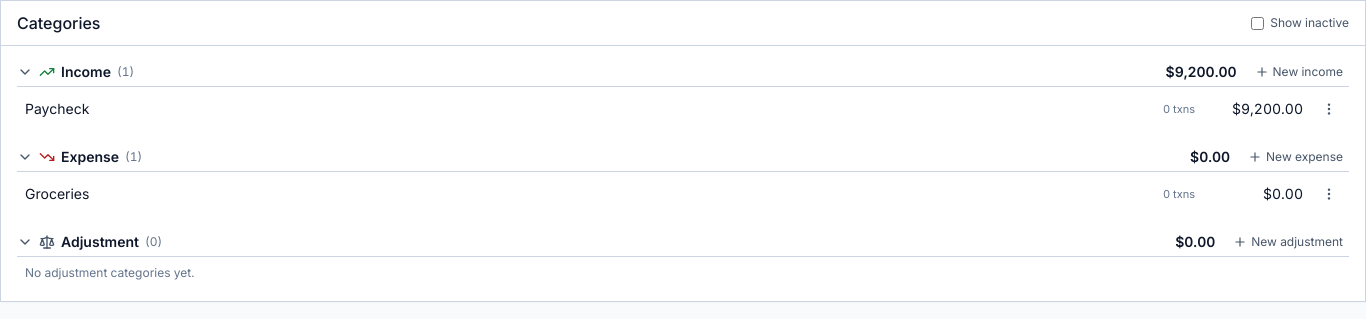
sections collapse, because a real taxonomy is long › hides a section body on toggle and keeps its total reachable
Check: the link "Groceries" is shown, box [25,184,89,204]
Click the button "Expense (1)": (90, 156) [17,147,1182,167]
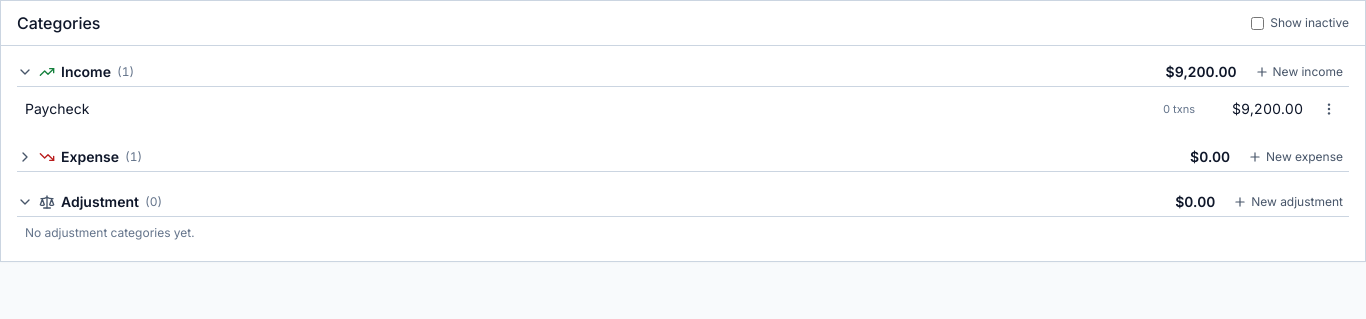
Check: the button "New expense" is shown, box [1242,147,1349,167]
Check: the link "Groceries" is gone
